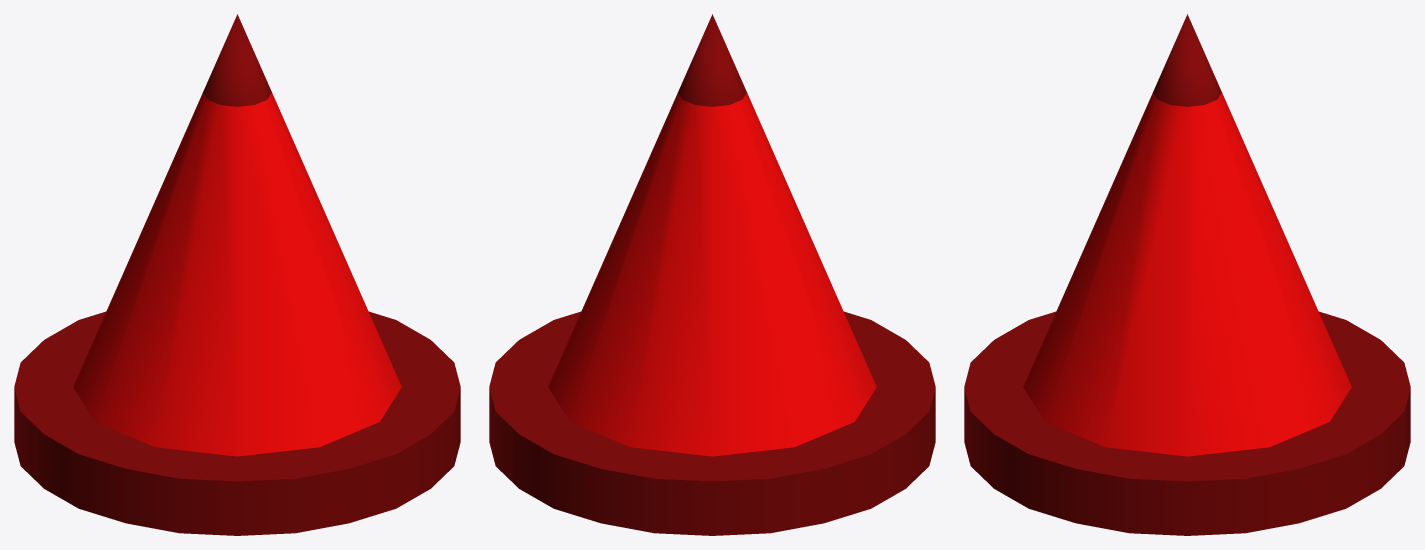
3 views of the same model, side by side, from view 1: azimuth 30°, elevation 25°; view 2: azimuth 150°, elevation 25°; view 3: azimuth 270°, elevation 25° (orthographic).
Parts seen in each view (by area): view 1: Cone002; view 2: Cone002; view 3: Cone002.
Boxes of the visible parts, bbox=[...] form: Cone002: bbox=[14, 14, 460, 535]; Cone002: bbox=[489, 14, 935, 535]; Cone002: bbox=[964, 14, 1410, 535].
Bounding box in the file's own units: 15.55 × 16.43 × 15.55.
